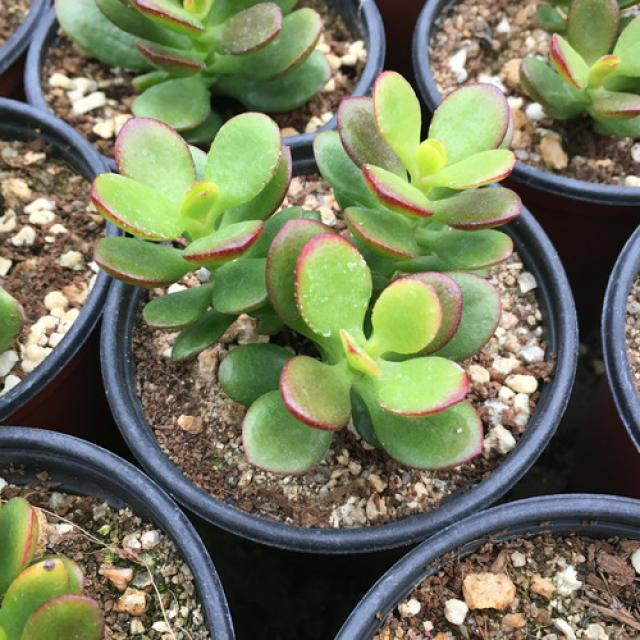Crassula: (220, 221, 500, 473), (92, 112, 302, 327), (315, 71, 521, 270)
